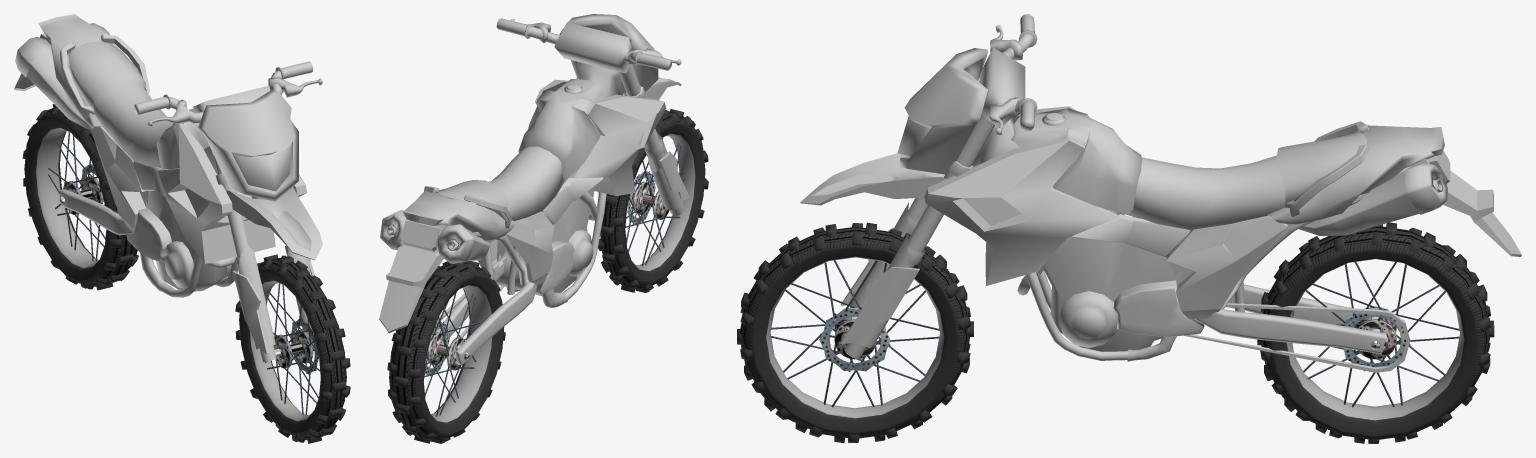
File: bike01.fbx
3 views of the same model, side by side, from view 1: azimuth 30°, elevation 25°; view 2: azimuth 150°, elevation 25°; view 3: azimuth 270°, elevation 25° (orthographic). The views are drawn at different scales.
Visible parts, largest first — view 1: polySurface588, Tyre, Tyre1, polySurface579, polySurface574, polySurface572, polySurface573, polySurface547, polySurface594, polySurface568, polySurface593, polySurface566 (+7 smaller); view 2: polySurface588, Tyre1, Tyre, polySurface579, polySurface559, polySurface568, polySurface574, polySurface547, polySurface594, polySurface552, polySurface543, polySurface566 (+8 smaller); view 3: polySurface588, Tyre1, Tyre, polySurface579, polySurface551, polySurface574, polySurface569, polySurface572, polySurface550, polySurface549, polySurface575, polySurface585 (+6 smaller).
Part boxes in pixels (x1,y1,x2,y2): polySurface588: [14, 14, 307, 297]; Tyre: [235, 254, 350, 443]; Tyre1: [22, 104, 138, 290]; polySurface579: [68, 41, 204, 167]; polySurface574: [198, 89, 298, 201]; polySurface572: [217, 186, 322, 260]; polySurface573: [233, 143, 291, 191]; polySurface547: [145, 167, 214, 291]; polySurface594: [126, 208, 171, 262]; polySurface568: [59, 189, 132, 235]; polySurface593: [232, 270, 268, 354]; polySurface566: [238, 245, 275, 349]; polySurface588: [379, 79, 666, 333]; Tyre1: [387, 261, 505, 443]; Tyre: [598, 109, 708, 292]; polySurface579: [434, 146, 564, 220]; polySurface559: [554, 22, 632, 73]; polySurface568: [455, 279, 537, 365]; polySurface574: [559, 14, 658, 92]; polySurface547: [538, 168, 594, 295]; polySurface594: [515, 241, 574, 295]; polySurface552: [576, 61, 625, 97]; polySurface543: [568, 230, 593, 276]; polySurface566: [647, 132, 683, 210]; polySurface588: [924, 106, 1521, 361]; Tyre1: [1257, 222, 1494, 443]; Tyre: [737, 222, 973, 443]; polySurface579: [1130, 132, 1367, 231]; polySurface551: [1043, 209, 1189, 351]; polySurface574: [899, 48, 987, 174]; polySurface569: [1195, 308, 1386, 354]; polySurface572: [800, 153, 946, 205]; polySurface550: [1113, 280, 1204, 337]; polySurface549: [1059, 291, 1117, 347]; polySurface575: [841, 267, 919, 343]; polySurface585: [1184, 303, 1409, 372].
Size of the model in its own units: 9.38 by 15.63 by 29.61.
